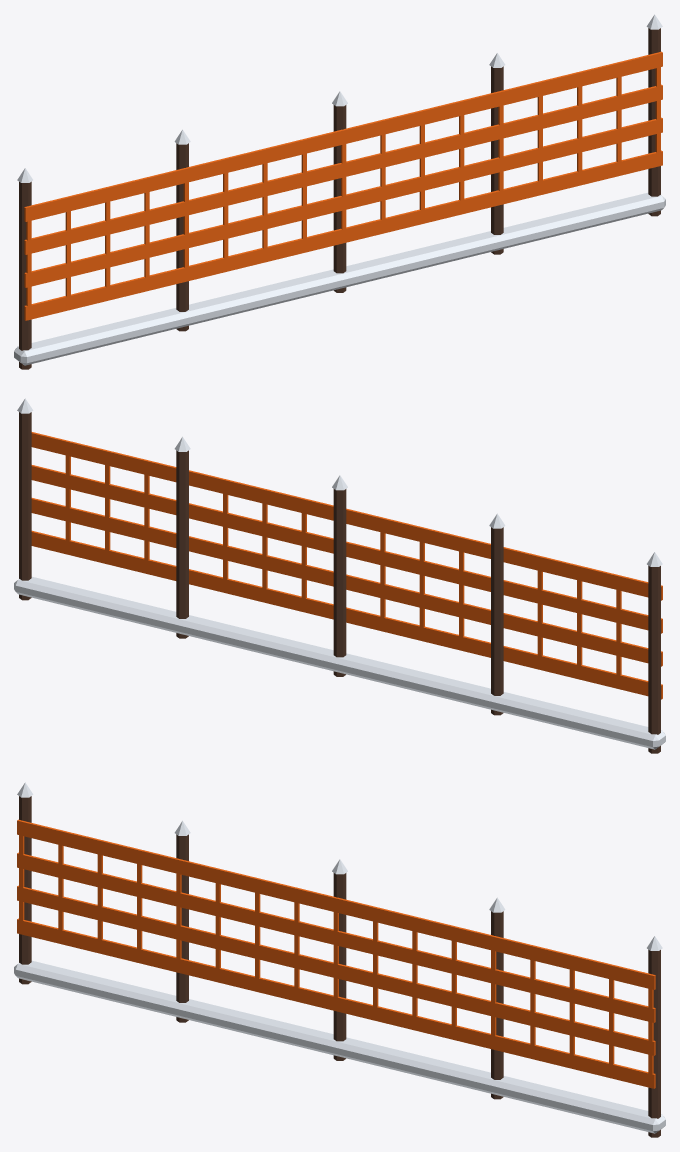
Rendered from snow_fence.glb.
3 renders of one model, top to bottom at view 1: azimuth 30°, elevation 25°; view 2: azimuth 150°, elevation 25°; view 3: azimuth 330°, elevation 25°, orthographic.
Parts seen in each view (by area): view 1: snow_fence; view 2: snow_fence; view 3: snow_fence.
Part boxes in pixels (box(x1,y1,x2,y2)): snow_fence: box(14, 14, 665, 369); snow_fence: box(14, 398, 665, 753); snow_fence: box(14, 782, 665, 1137).
Size of the model in its own units: 16.4 by 4.85 by 0.5.
1 material, 1 textured.
